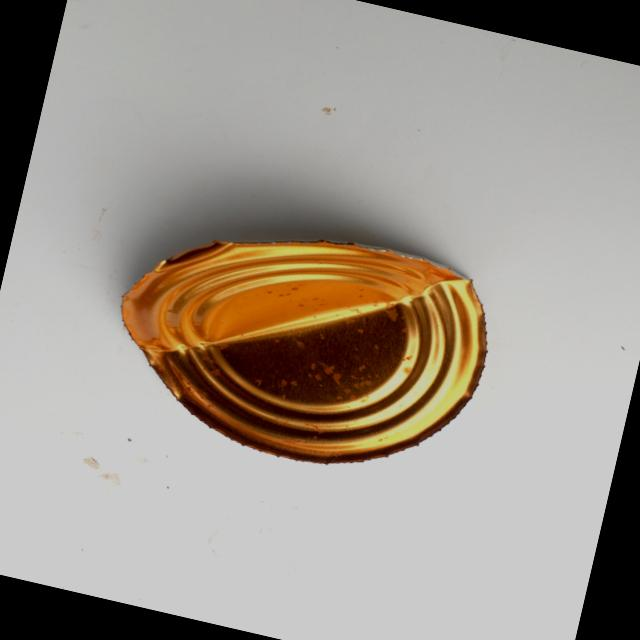Metal: (88, 180, 516, 508)
